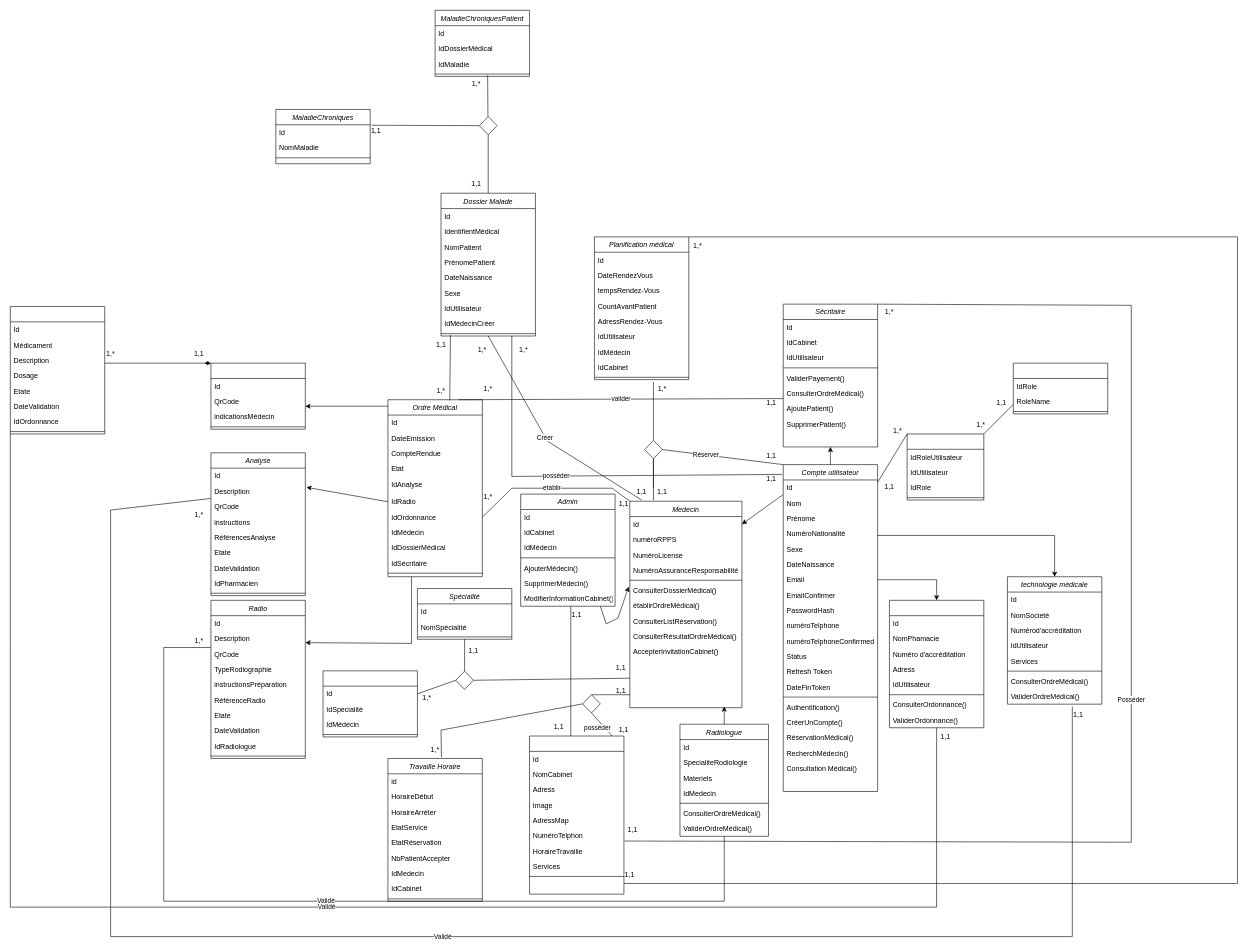
Image size: 1248x950. Some labels were removed from this diagram. The box of each missing label's shape, as (x1, y1, x2, y2) in pixels:
Cabinet médical: (529, 735, 624, 894)
Ligne Médicament: (10, 306, 105, 434)
Ordonnace: (210, 363, 305, 429)
pharmacien: (889, 600, 984, 728)
Rôle Utilisateur: (907, 433, 984, 500)
Rôles: (1013, 363, 1108, 414)
SpécialitéMédecin: (322, 670, 417, 737)
